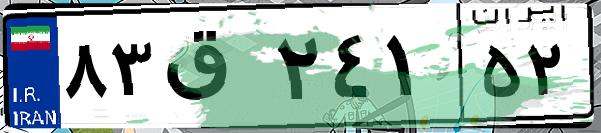1: (385, 28, 445, 110)
2: (270, 28, 330, 110), (525, 38, 570, 115)
3: (110, 28, 158, 98)
4: (330, 28, 385, 110)
5: (475, 38, 525, 113)
8: (57, 26, 110, 100)
ق: (158, 20, 270, 120)
